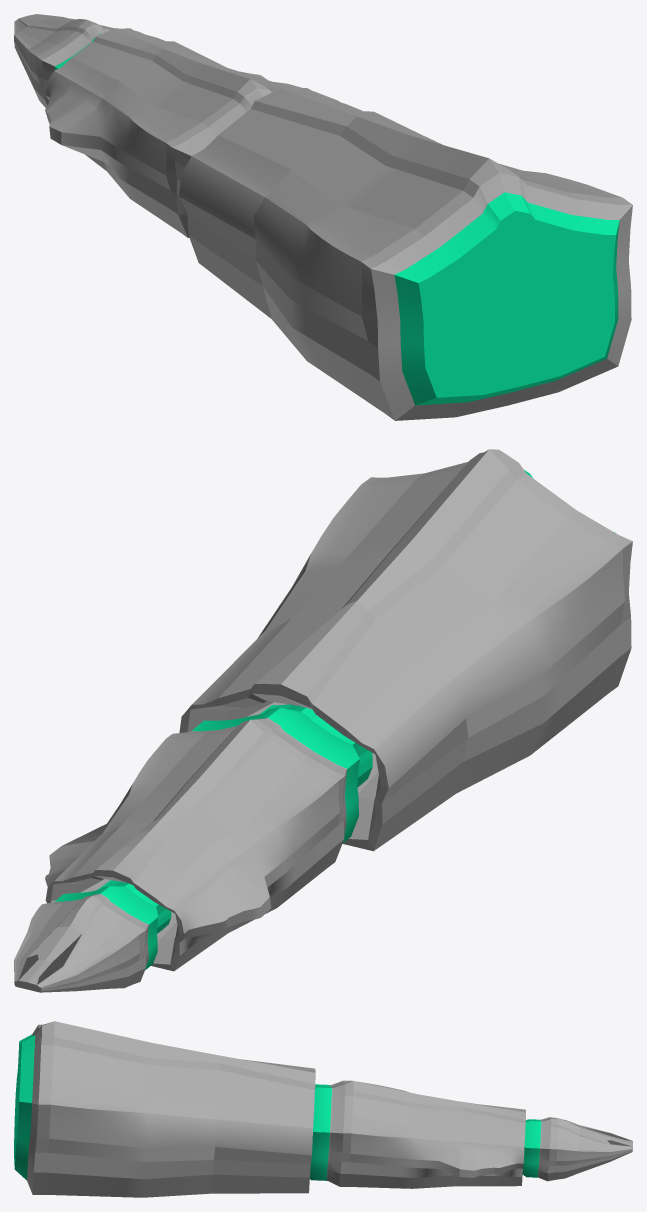
File: tail1.fbx
3 views of the same model, one above another, from view 1: azimuth 30°, elevation 25°; view 2: azimuth 150°, elevation 25°; view 3: azimuth 270°, elevation 25° (orthographic). The views are drawn at different scales.
Visible parts, largest first — view 1: pCone9; view 2: pCone9; view 3: pCone9.
Boxes of the visible parts, x1,y1,x2,y2 form: pCone9: [14, 14, 632, 420]; pCone9: [14, 449, 632, 992]; pCone9: [14, 1021, 632, 1197].
Bounding box in the file's own units: 0.6571 × 0.5677 × 2.14.
